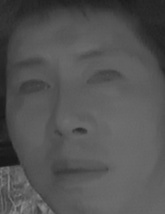eye: (84, 64, 124, 88), (16, 78, 51, 98)
mouth: (48, 153, 109, 188)
